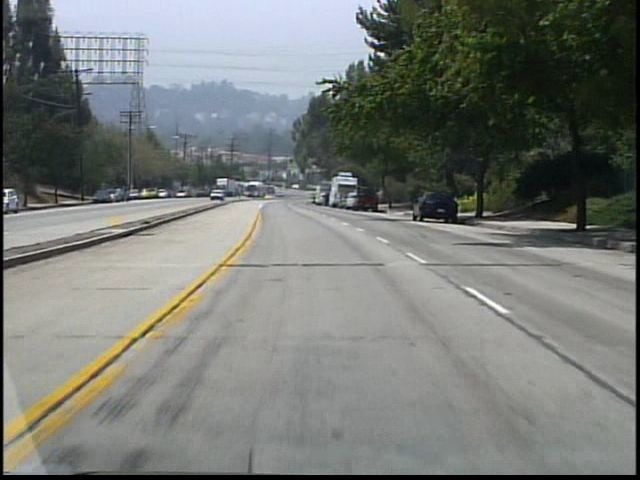person: (375, 183, 386, 209)
